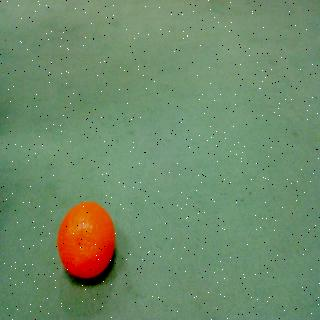orange: (58, 196, 118, 283)
